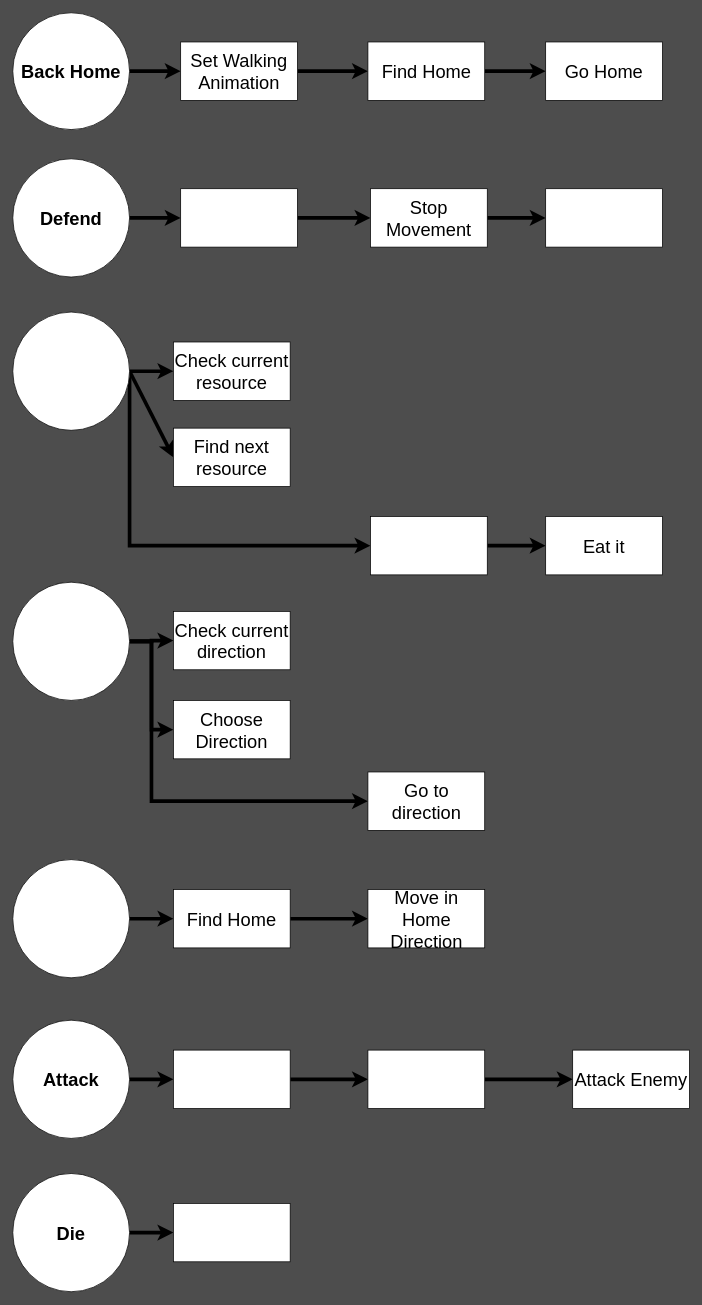
Some shapes in this 702 by 1305 pixel diagram are drawn without their labels. Each missing label, with the centre of its shape:
Face Outside?: point (603, 217)
Find enemy: point (231, 1079)
Flee: point (71, 918)
Go for it: point (428, 545)
Go to enemy: point (426, 1079)
Make Death animation: point (231, 1232)
Recollect: point (71, 370)
Search Base: point (71, 640)
Set Idle Animation: point (238, 217)
